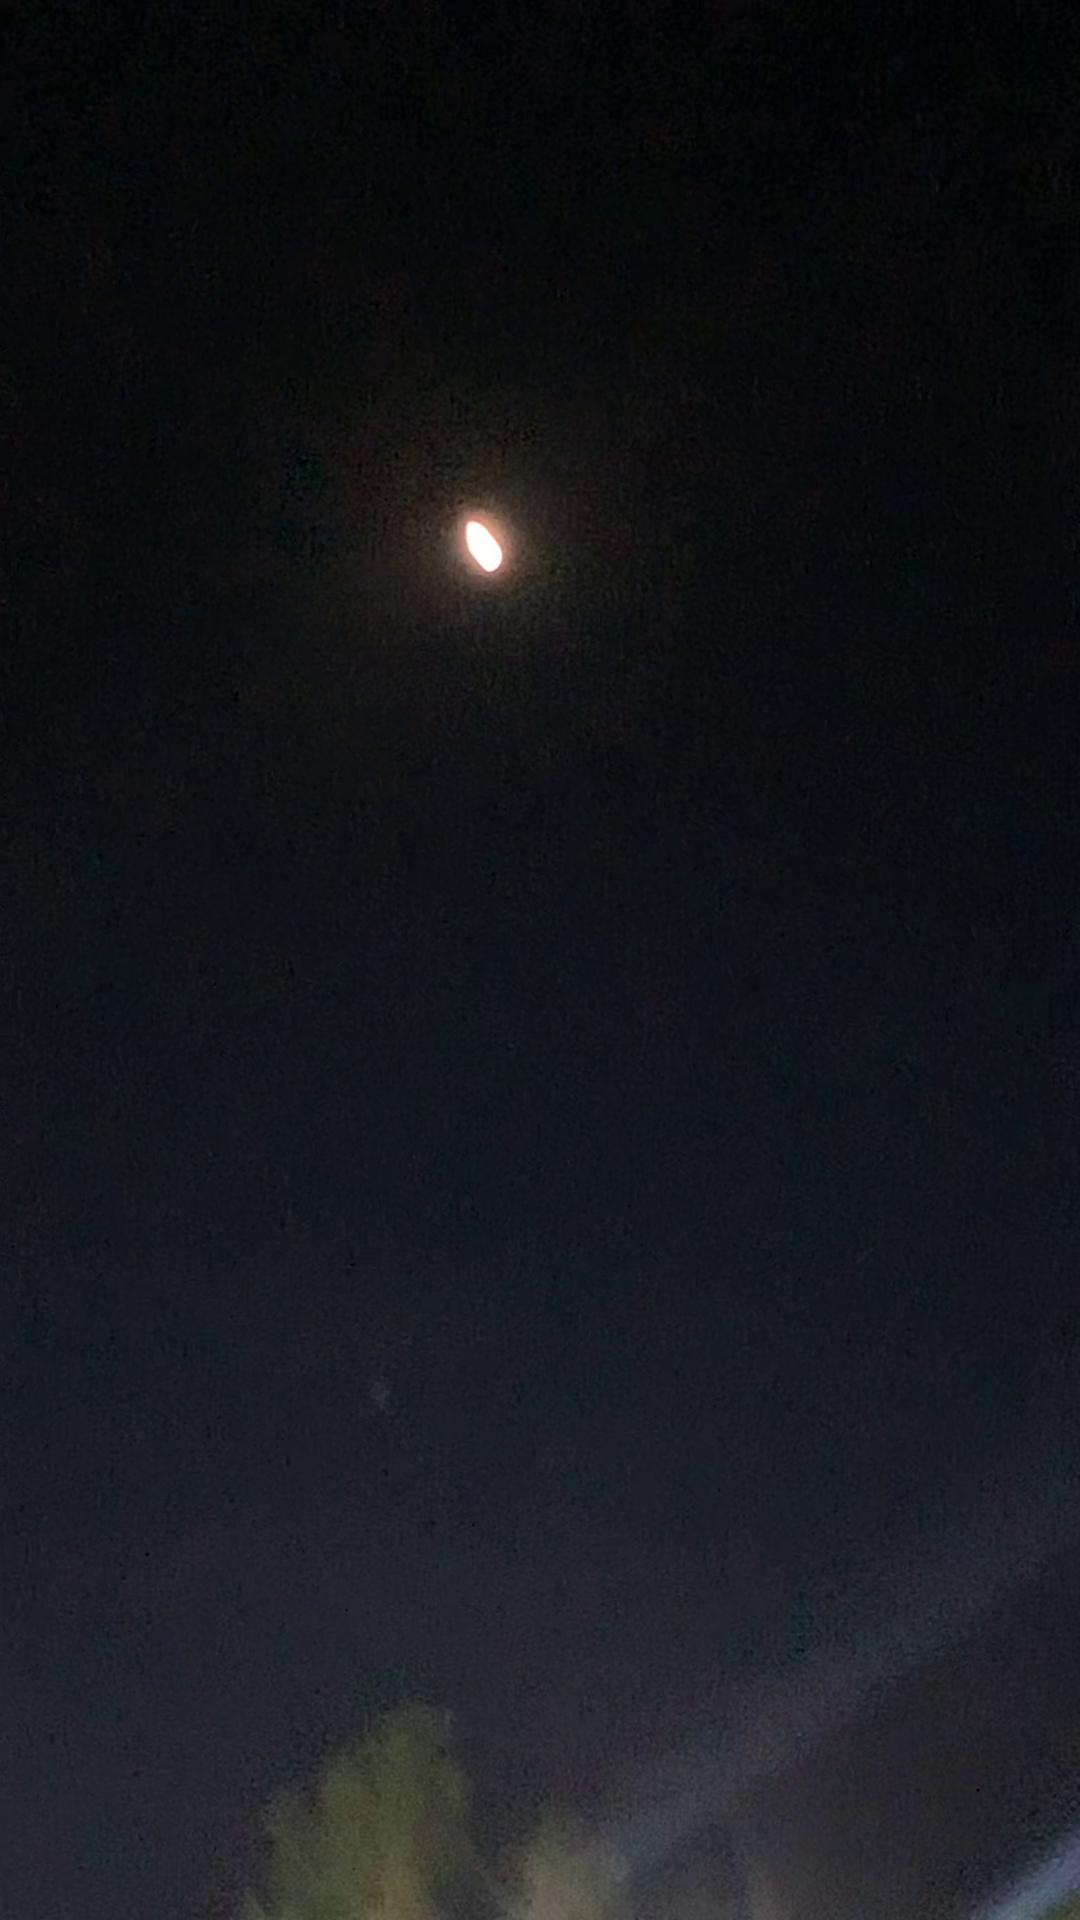moon: (443, 509, 520, 588)
